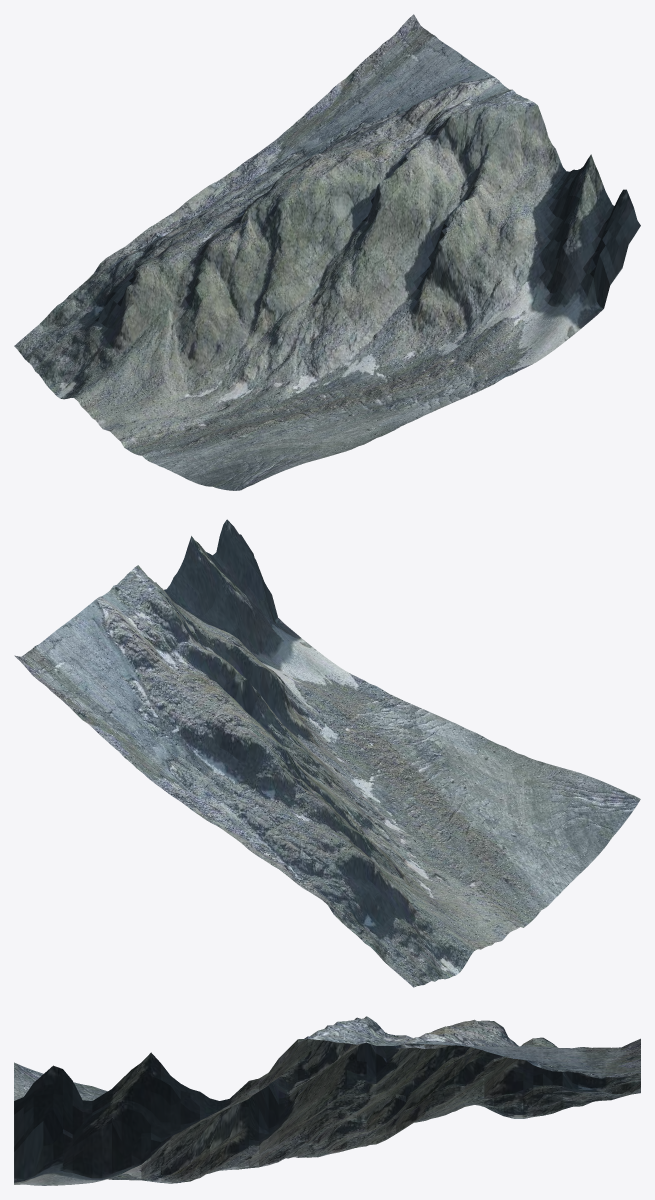
File: Silv_tile_27.gltf
3 views of the same model, one above another, from view 1: azimuth 30°, elevation 25°; view 2: azimuth 150°, elevation 25°; view 3: azimuth 270°, elevation 25° (orthographic). The views are drawn at different scales.
Parts seen in each view (by area): view 1: 18.006; view 2: 18.006; view 3: 18.006.
Boxes of the visible parts, x1,y1,x2,y2 form: 18.006: (14,14,640,490); 18.006: (14,519,640,987); 18.006: (14,1016,640,1185).
Bounding box in the file's own units: 0.5078 × 0.3101 × 0.5.
Materials: 1 (1 with a texture image).
